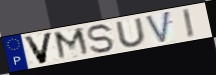I: (180, 7, 197, 40)
M: (52, 26, 93, 62)
S: (86, 22, 117, 55)
U: (114, 16, 149, 48)
V: (22, 31, 56, 66), (144, 9, 172, 45)
